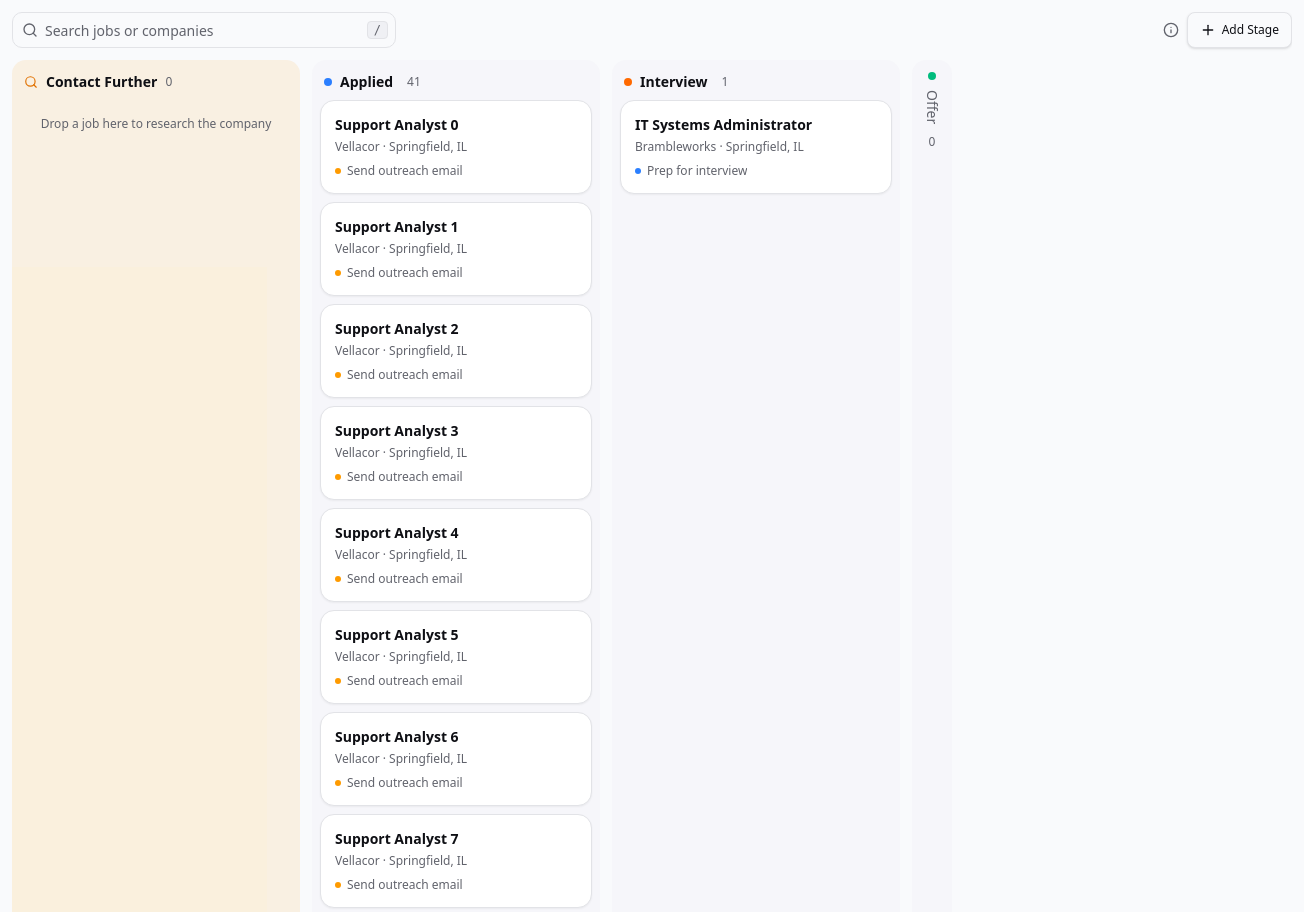
it: KanbanBoard › search brings a match from past the first page to the top and counts it
Type "quillstone" into the field named "Search the board" at (204, 30), box [12, 12, 396, 48]
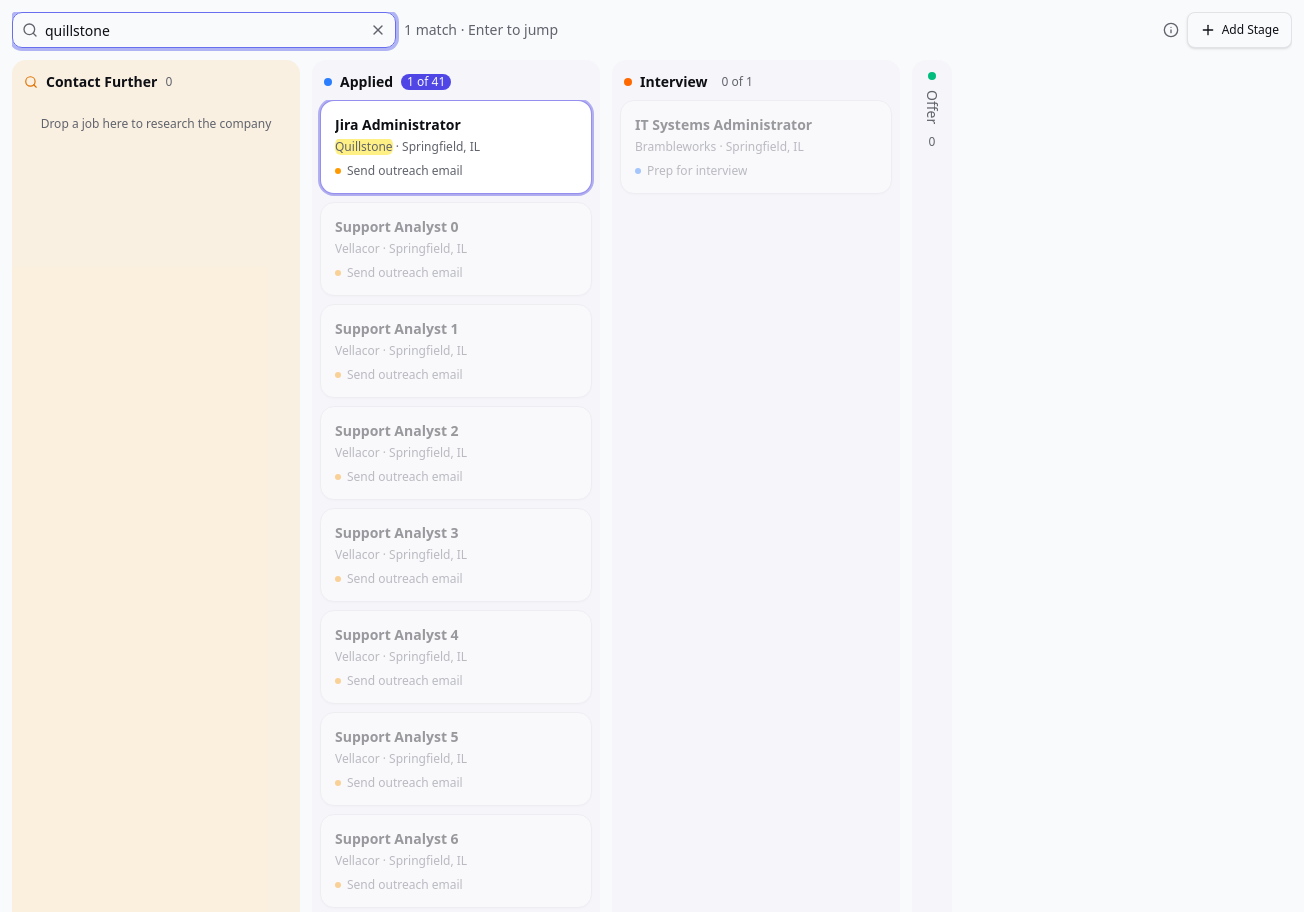
Result: the text "1 of 41" is shown at [401, 74, 451, 90]
Result: the text "1 match · Enter to jump" is shown at [404, 20, 558, 40]
